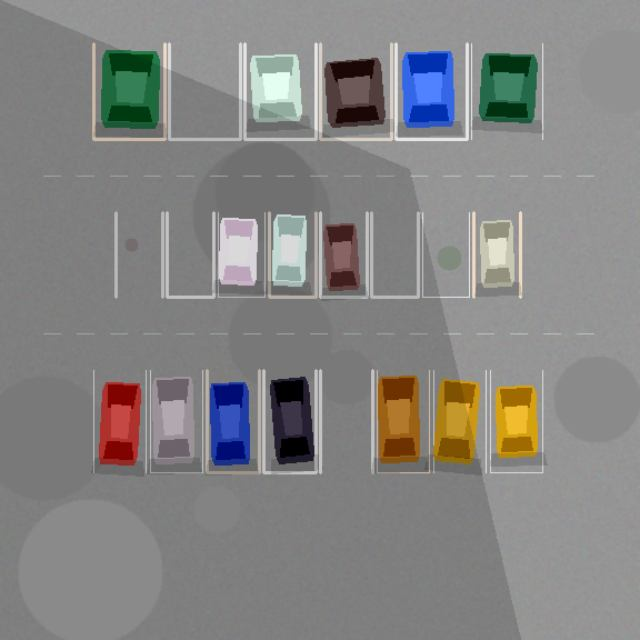space-empty: (169, 43, 240, 139), (320, 370, 372, 472), (371, 212, 418, 297), (422, 212, 469, 297), (116, 212, 162, 297), (167, 212, 213, 297)
space-occupied: (244, 43, 316, 139), (93, 43, 164, 139), (320, 43, 391, 139), (396, 43, 467, 139), (471, 43, 542, 139), (93, 370, 146, 472), (263, 370, 316, 472), (433, 370, 486, 472), (150, 370, 202, 472), (207, 370, 259, 472), (377, 370, 429, 472), (490, 370, 542, 472), (269, 212, 316, 297), (320, 212, 367, 297), (473, 212, 520, 297), (218, 212, 264, 297)
